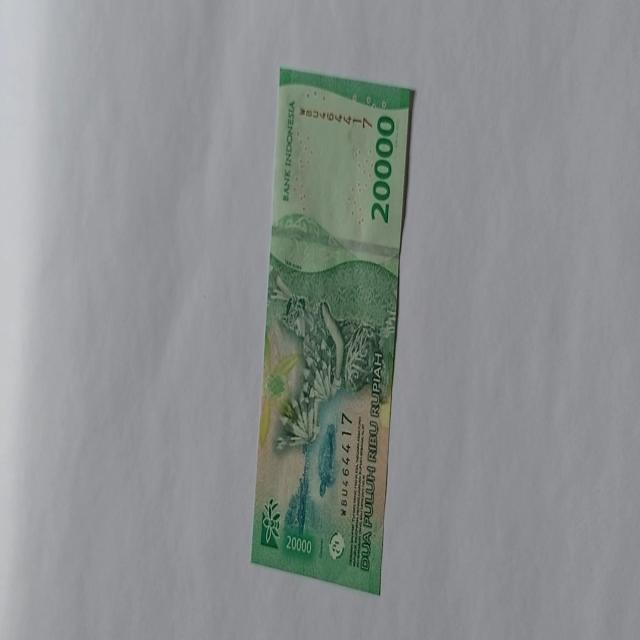dua puluh ribu rupiah: (250, 65, 414, 595)
